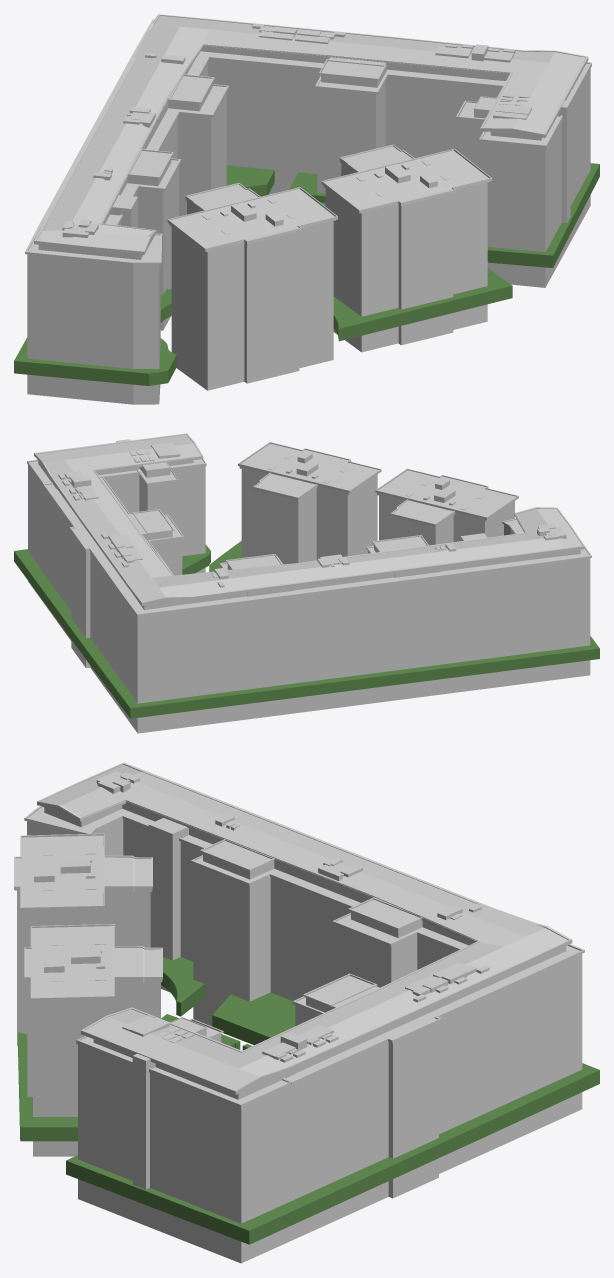
Rendered from building.fbx.
3 renders of one model, top to bottom at view 1: azimuth 30°, elevation 25°; view 2: azimuth 150°, elevation 25°; view 3: azimuth 270°, elevation 25°, orthographic. The views are drawn at different scales.
Visible parts, largest first — view 1: Slice.005; view 2: Slice.005; view 3: Slice.005.
Part boxes in pixels (x1=…): Slice.005: x1=14, y1=14, x2=599, y2=404; Slice.005: x1=14, y1=433, x2=599, y2=733; Slice.005: x1=14, y1=762, x2=599, y2=1263.
Bounding box in the file's own units: 15106 × 3655 × 10717.
